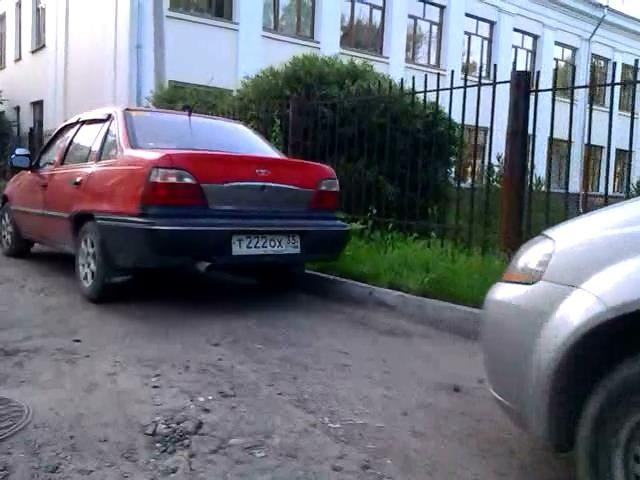car license plate: (229, 230, 303, 255)
